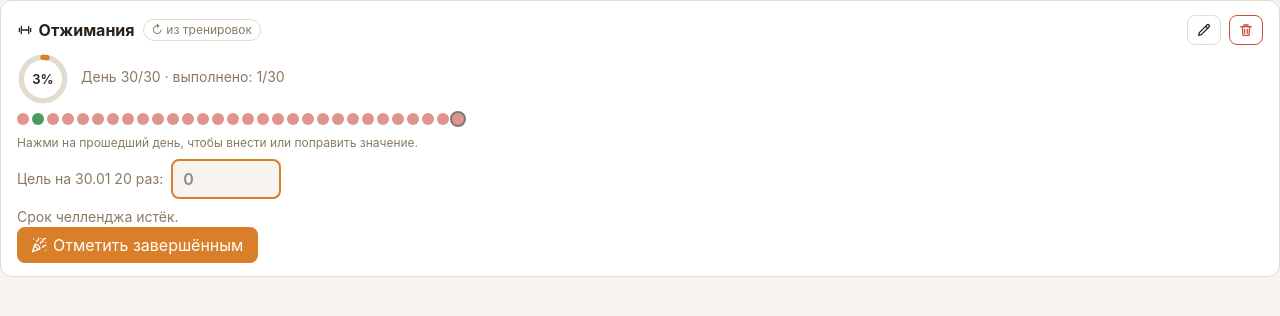
Test: DailyChallengeCard — значения из тренировок › past day taken from workouts shows the workout replace-hint
The image size is (1280, 316).
Click the button named "2020-01-02".
click(38, 119)  # box [32,113,44,125]
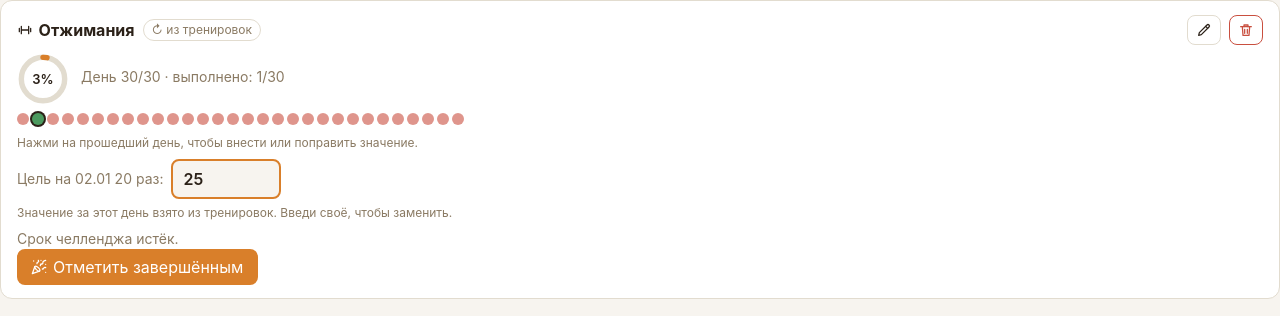
Result: the text with test id "day-from-metric" shows "из тренировок" at [17,205,452,220]
Result: the number field with test id "day-value" holds "25" at [172,159,282,199]
